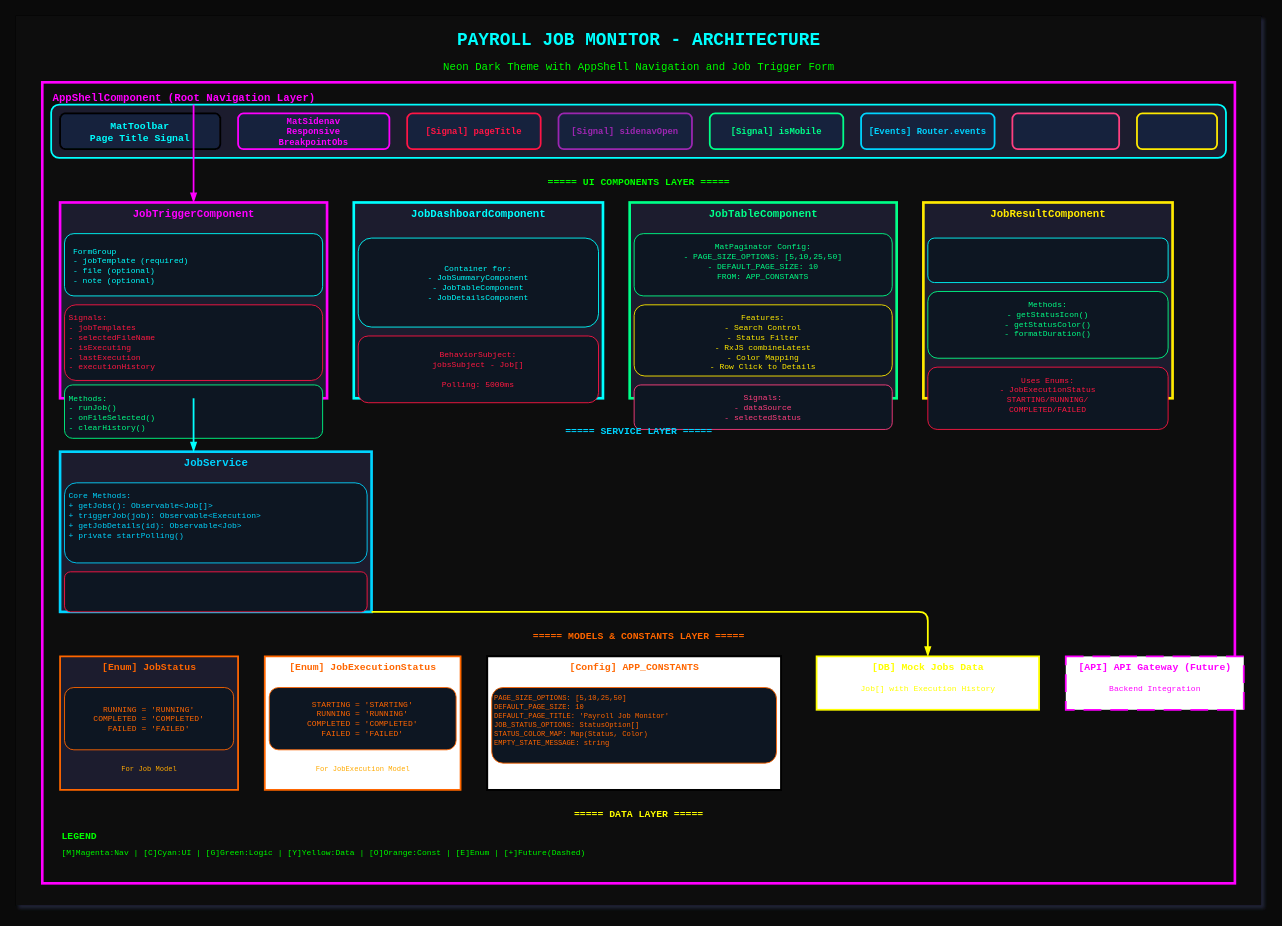
Image size: 1282x926. Some labels were removed from this diagram. Each missing label, with the centre of its shape:
@Input() execution: JobExecution: (1047,260)
[UI] Toggle: (1065,131)
Polling: 5000ms Pattern: RxJS interval() + switchMap() for data: (215,591)
router-outlet: (1177,131)
